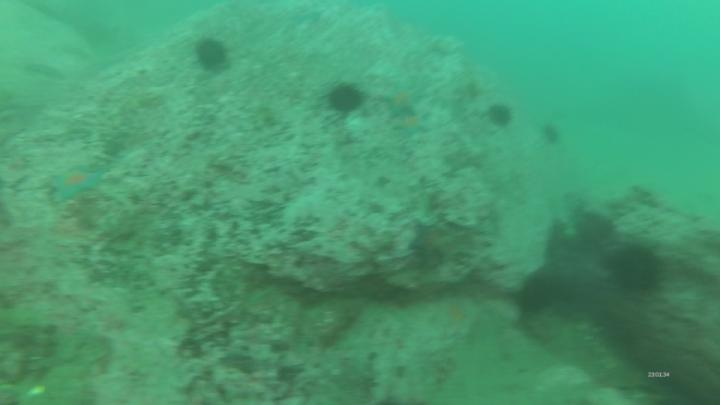echinus: (613, 245, 660, 292), (194, 41, 228, 70), (331, 87, 363, 113), (490, 105, 511, 125)
holothurian: (520, 277, 559, 315), (576, 211, 615, 246)
starfish: (49, 168, 105, 195), (416, 227, 452, 260), (386, 86, 419, 114), (395, 111, 436, 133)
